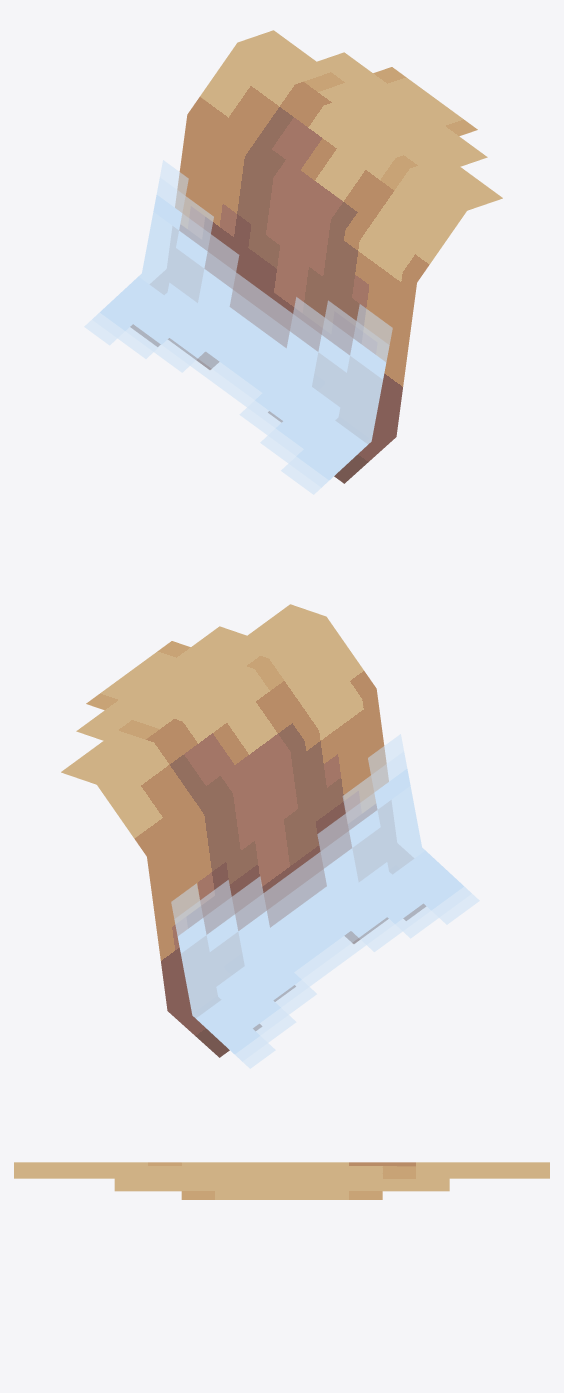
3 views of the same model, one above another, from view 1: azimuth 30°, elevation 25°; view 2: azimuth 150°, elevation 25°; view 3: azimuth 270°, elevation 25° (orthographic). The views are drawn at different scales.
Size of the model in its own units: 0.7695 by 0.7266 by 1.
2 materials, 2 textured.
